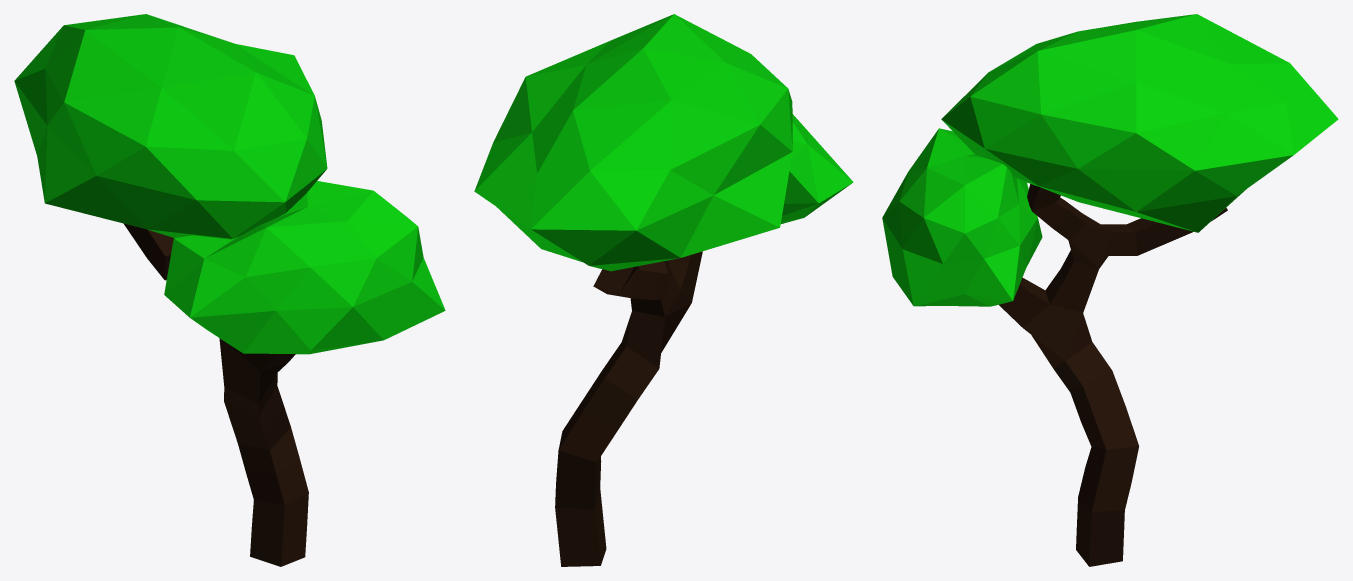
File: tree.obj
The picture shows the model from 3 angles, left to right: view 1: azimuth 30°, elevation 25°; view 2: azimuth 150°, elevation 25°; view 3: azimuth 270°, elevation 25°; orthographic projection. The views are drawn at different scales.
Visible parts, largest first — view 1: tree; view 2: tree; view 3: tree.
Part boxes in pixels (<box>): tree: <box>14,14,445,566</box>; tree: <box>474,14,853,566</box>; tree: <box>882,14,1338,566</box>.
Bounding box in the file's own units: 7.22 × 13.22 × 11.12.
